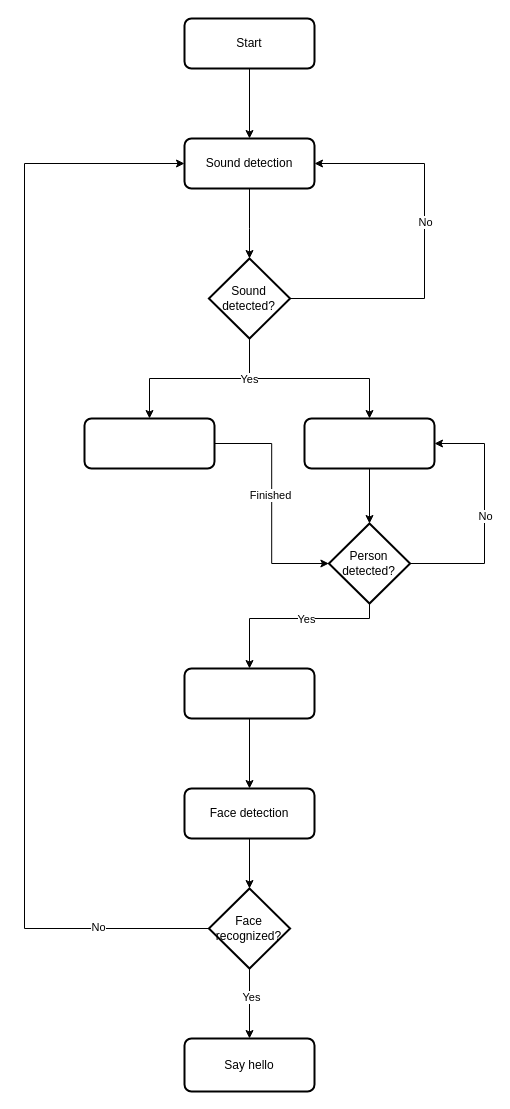
Image size: 510x1109. Some labels were removed from this diagram. The centre of each missing label's shape, as x and y in pixels:
Go to person: the point at 249,693
Person detection: the point at 369,443
Turn to sound origin: the point at 149,443
